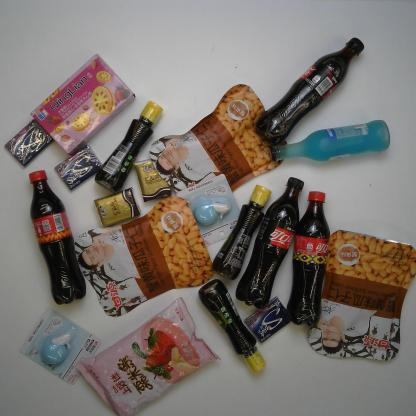Alcohol: (270, 119, 390, 162)
Dessert: (30, 54, 136, 156)
Dried Fruit: (73, 195, 216, 318), (149, 83, 287, 205), (306, 229, 416, 362)
Drink: (254, 37, 365, 147), (235, 176, 305, 311), (28, 170, 87, 306), (286, 190, 331, 329)
Gum: (3, 118, 54, 168), (244, 296, 292, 344), (54, 144, 103, 191)
Puffed Food: (74, 296, 221, 416)
Seasoner: (197, 278, 268, 373), (94, 100, 163, 195), (211, 184, 273, 281)
Stationery: (19, 307, 102, 385), (176, 172, 242, 249)
Tissue: (93, 186, 142, 228), (133, 158, 172, 202)
